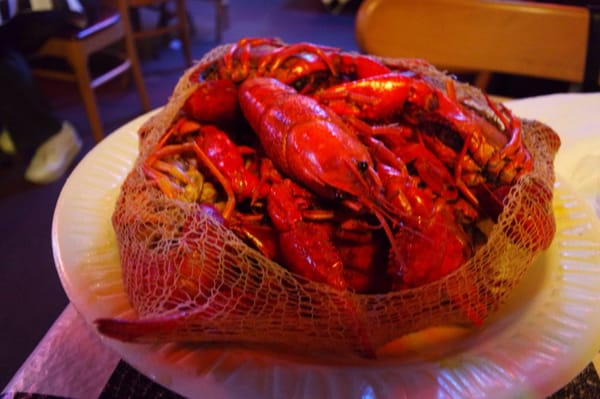pasta: (354, 1, 599, 92), (26, 2, 152, 141)
